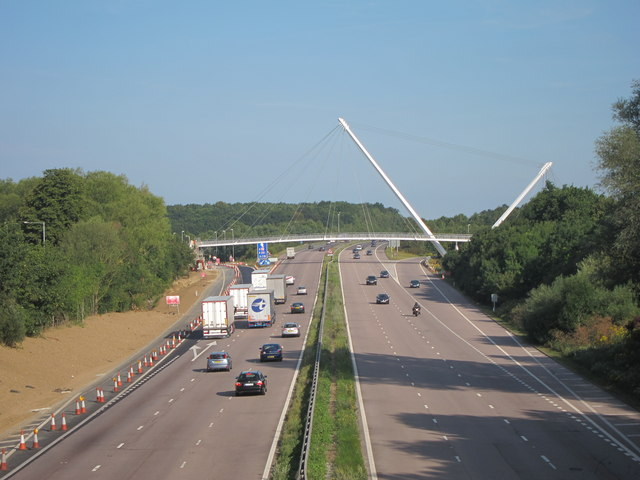bridge: (189, 218, 480, 250)
